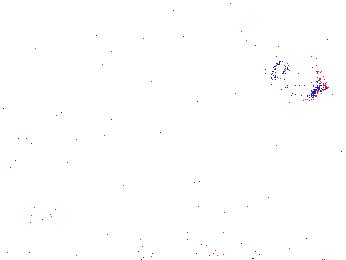flame jellyfish: (146, 151, 209, 224), (4, 166, 72, 220), (263, 50, 328, 103)
